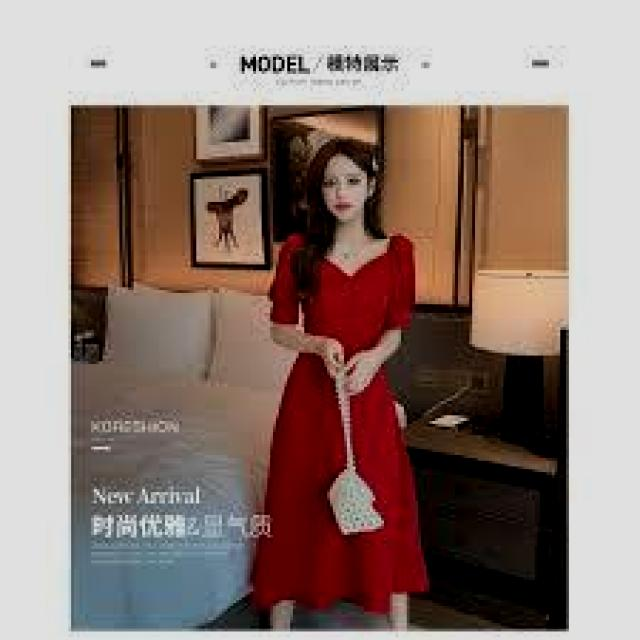dress: (252, 228, 426, 606)
